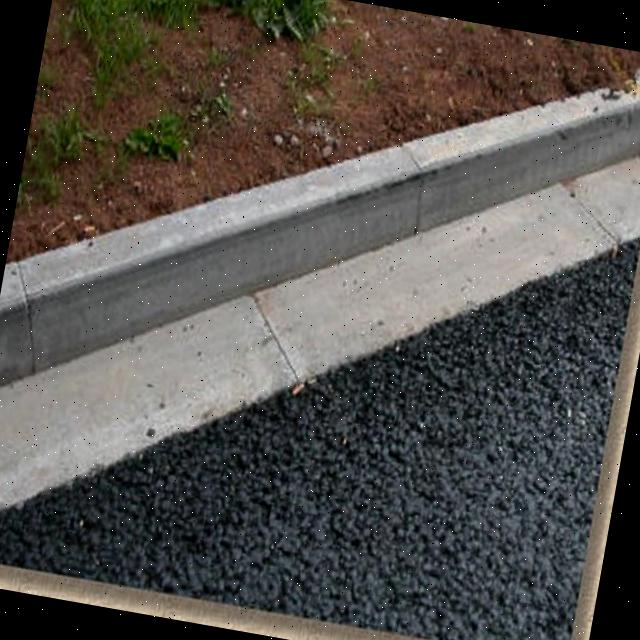curb: (1, 193, 208, 425), (476, 49, 640, 213), (180, 169, 360, 318), (324, 102, 498, 249)
